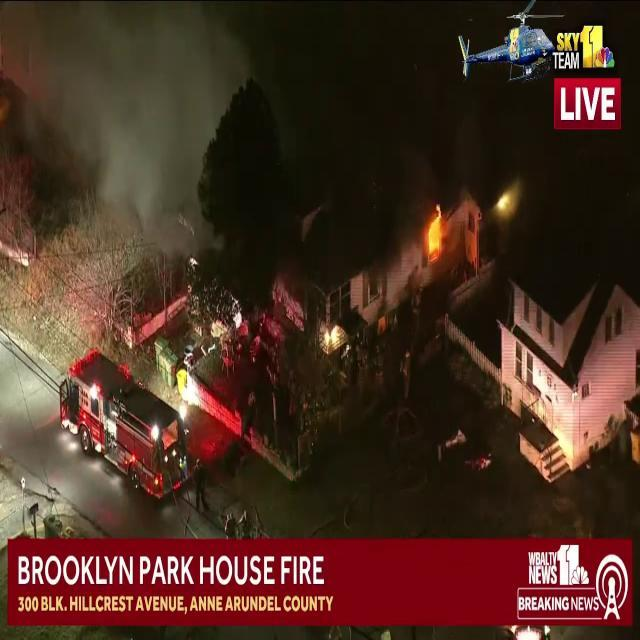Fire: (428, 206, 447, 262)
Smoke: (24, 0, 238, 230)
